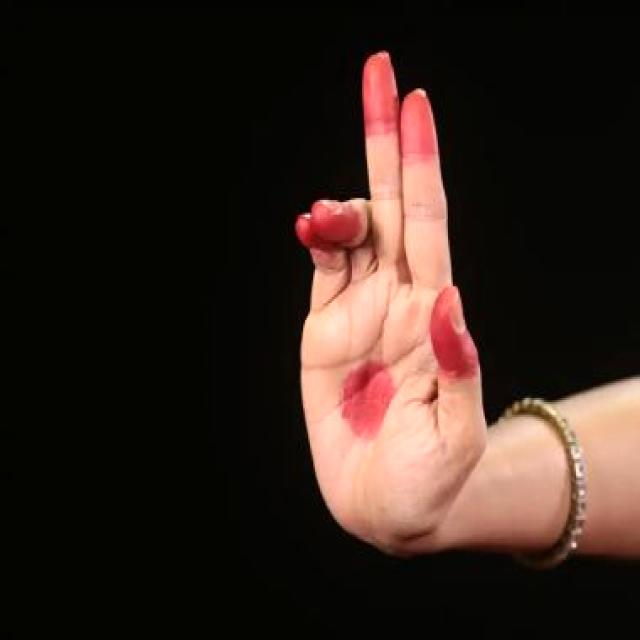Ardhapataka: (259, 30, 522, 577)
